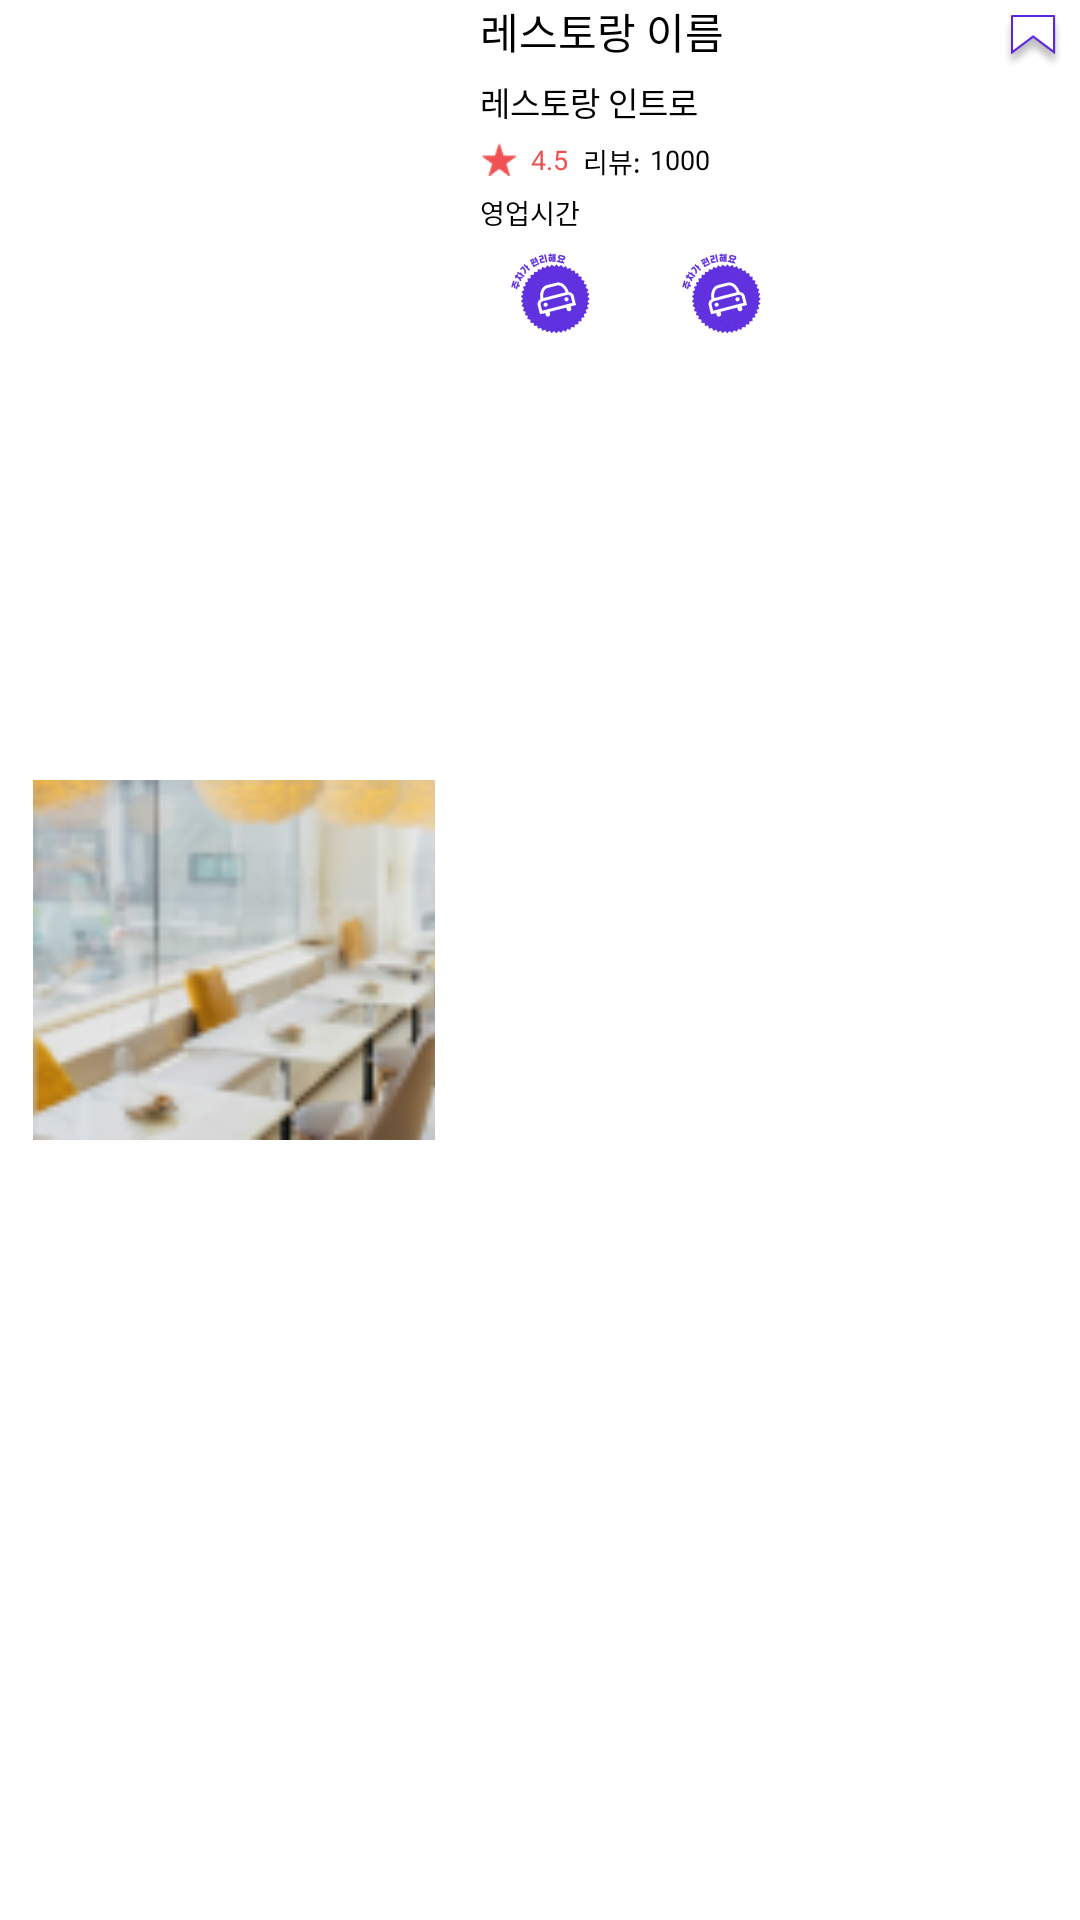

Icons on this 1080px×1920px Android screen, each with its box as (x1, y1, x2, y2):
bookmark: (1010, 15, 1056, 60)
star: (482, 143, 516, 176)
sticker: (511, 253, 590, 334), (682, 253, 761, 334)
